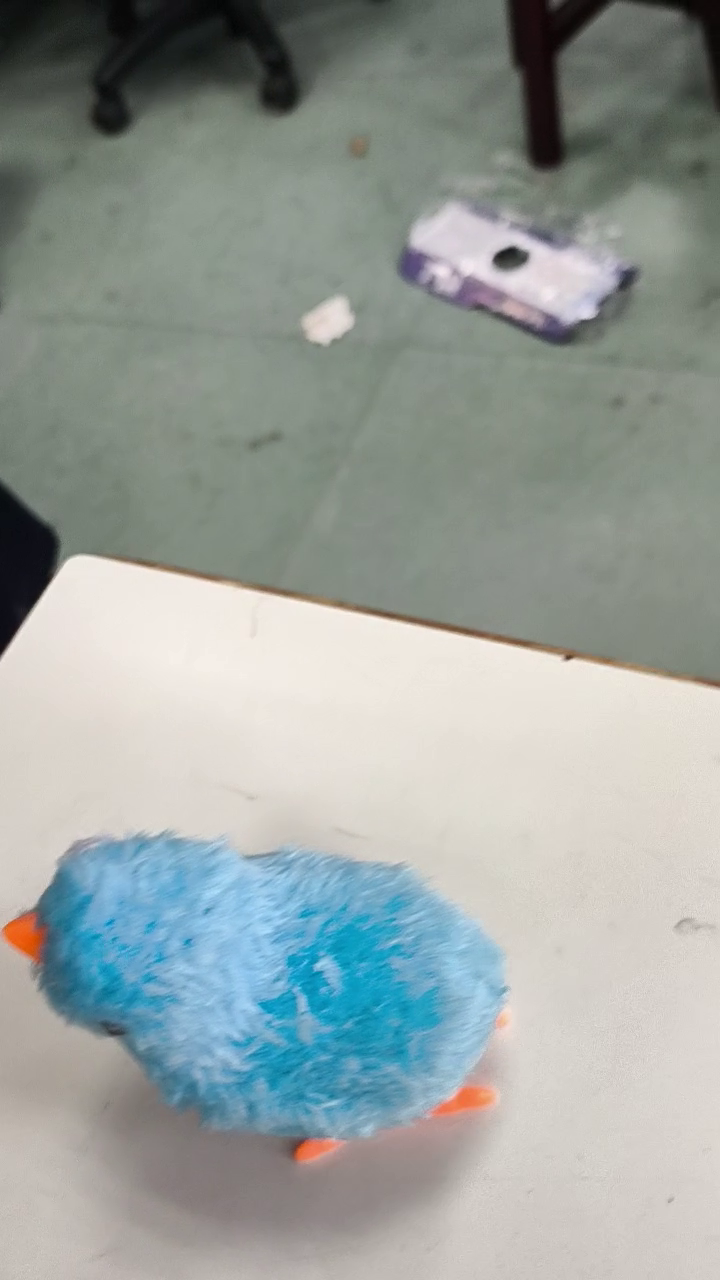blue chicken: (1, 829, 522, 1171)
